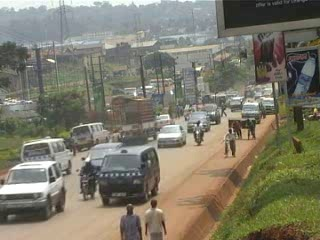Car: (0, 156, 68, 223), (80, 140, 128, 180), (154, 120, 188, 149), (187, 110, 212, 135), (200, 102, 222, 126), (152, 109, 175, 131)
Motorcycle: (74, 163, 96, 201), (191, 124, 204, 145), (110, 131, 126, 147)
